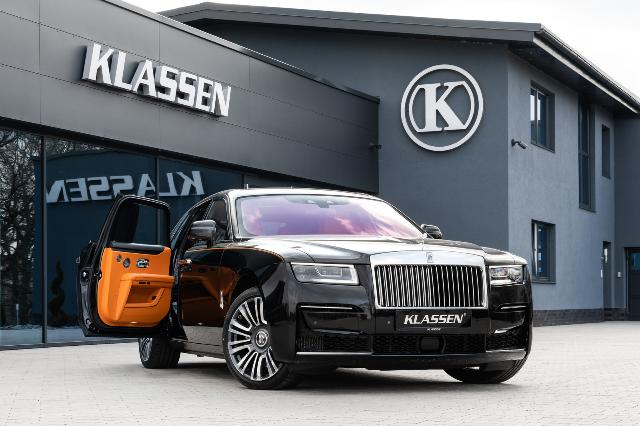rolls-royce: (76, 187, 534, 389)
